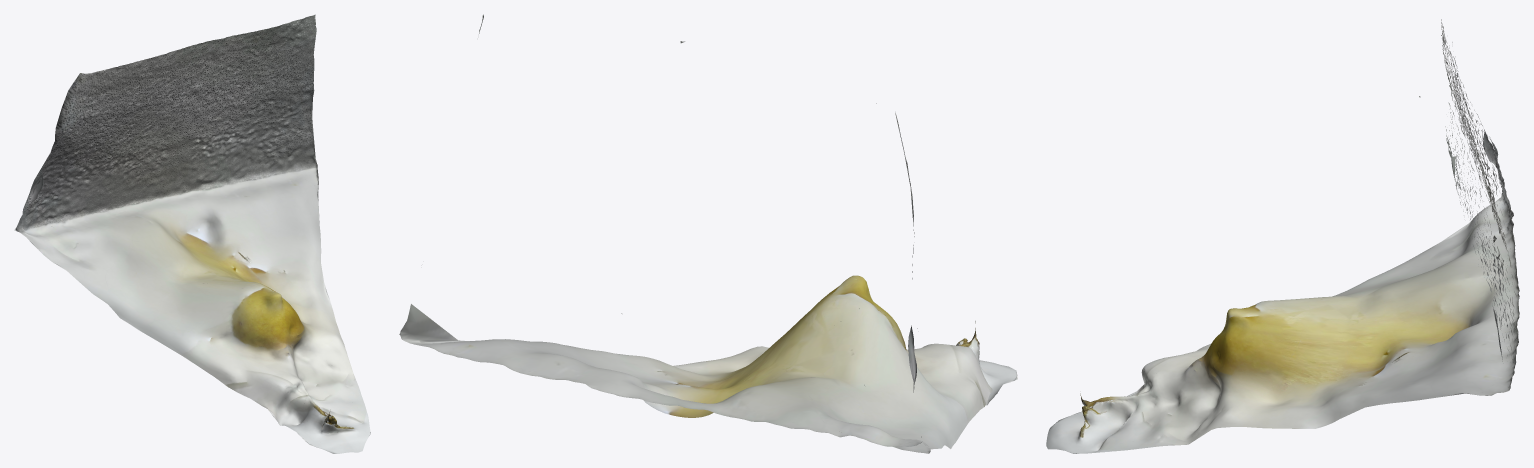
3 views of the same model, side by side, from view 1: azimuth 30°, elevation 25°; view 2: azimuth 150°, elevation 25°; view 3: azimuth 270°, elevation 25° (orthographic). The views are drawn at different scales.
Size of the model in its own units: 1.05 by 0.9633 by 1.14.
1 material, 1 textured.
